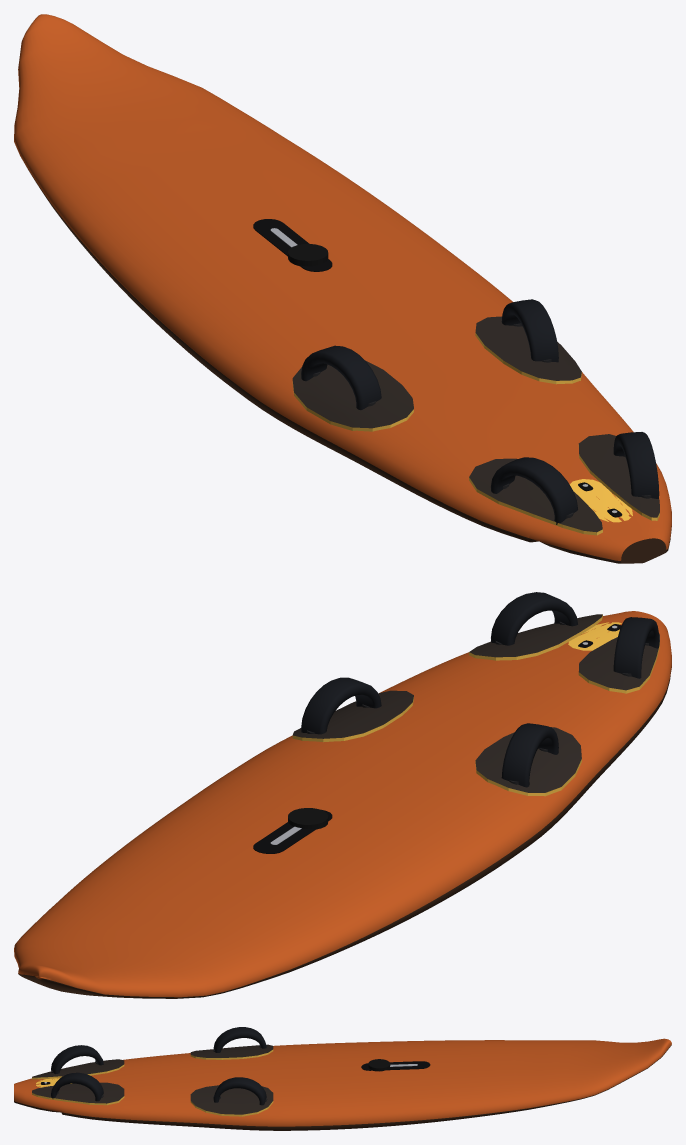
Rendered from savanna_freerace_105.glb.
The picture shows the model from 3 angles, top to bottom: view 1: azimuth 30°, elevation 25°; view 2: azimuth 150°, elevation 25°; view 3: azimuth 270°, elevation 25°; orthographic projection. The views are drawn at different scales.
Visible parts, largest first — view 1: Hull, DeckPads, Footstraps, MastTrack; view 2: Hull, DeckPads, Footstraps, MastTrack; view 3: Hull, DeckPads, Footstraps, MastTrack.
Boxes of the visible parts, bbox=[...] form: Hull: bbox=[14, 14, 671, 563]; DeckPads: bbox=[292, 316, 659, 535]; Footstraps: bbox=[301, 299, 659, 524]; MastTrack: bbox=[253, 219, 332, 271]; Hull: bbox=[14, 611, 671, 998]; DeckPads: bbox=[292, 614, 659, 796]; Footstraps: bbox=[301, 592, 659, 787]; MastTrack: bbox=[253, 808, 332, 853]; Hull: bbox=[14, 1038, 671, 1130]; DeckPads: bbox=[32, 1044, 273, 1116]; Footstraps: bbox=[51, 1027, 267, 1105]; MastTrack: bbox=[361, 1059, 430, 1071].
Bounding box in the file's own units: 0.65 × 0.2382 × 2.39.
